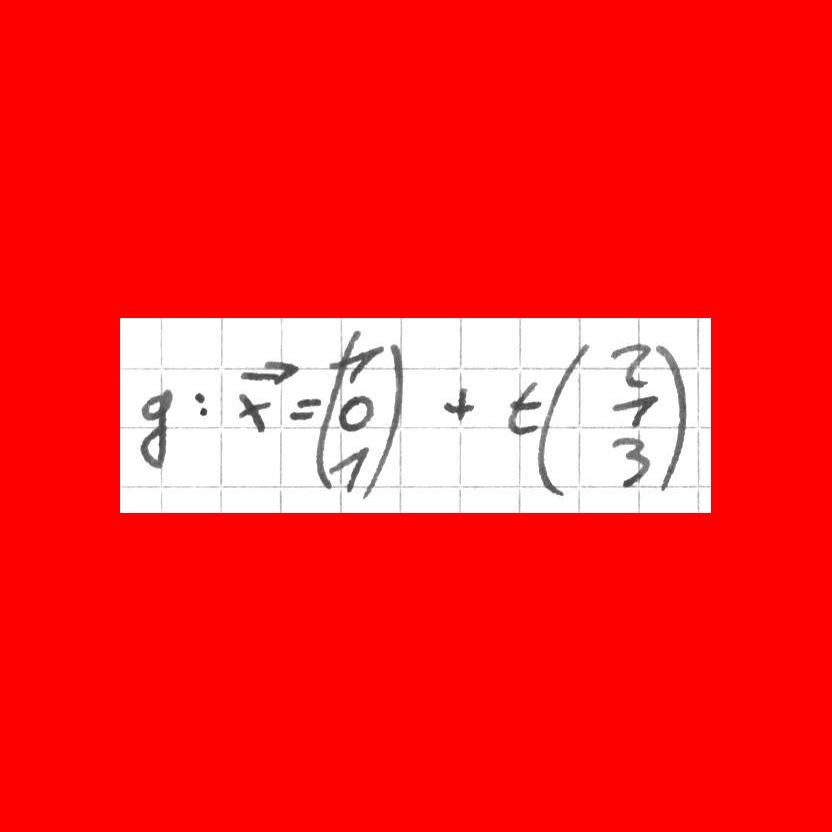Char: (531, 336, 587, 493), (367, 337, 415, 507), (655, 338, 690, 493), (138, 383, 176, 470), (326, 336, 384, 385), (605, 336, 651, 393), (610, 434, 654, 492), (505, 375, 545, 436), (236, 352, 301, 389), (325, 445, 370, 495), (607, 393, 659, 431), (231, 390, 271, 434), (335, 390, 375, 434), (444, 383, 480, 428), (287, 394, 323, 426), (193, 385, 212, 418)
